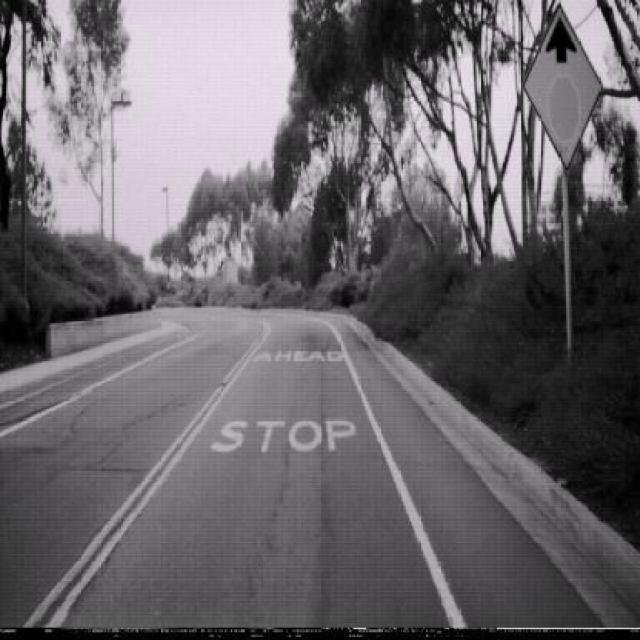stopAhead: (523, 3, 604, 172)
